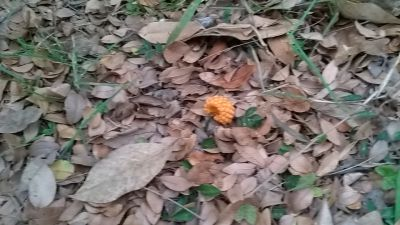eggs: (203, 95, 235, 126)
